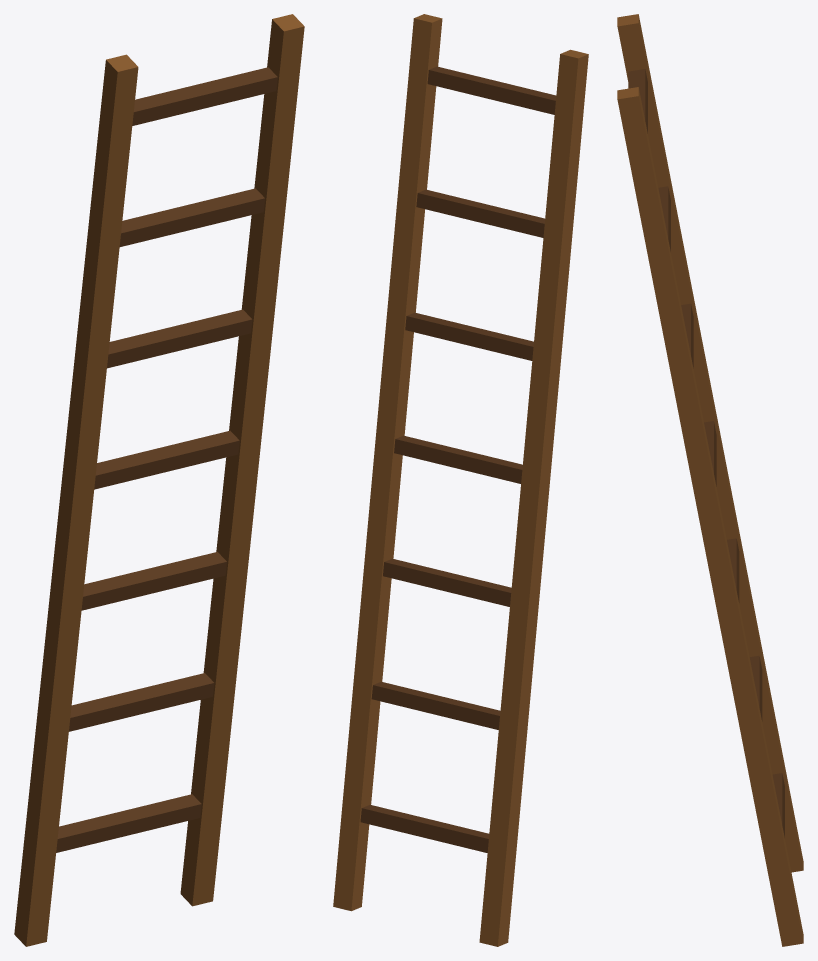
File: PR_Intro_Merdiven.fbx
3 renders of one model, left to right at view 1: azimuth 30°, elevation 25°; view 2: azimuth 150°, elevation 25°; view 3: azimuth 270°, elevation 25°, orthographic. The views are drawn at different scales.
Parts seen in each view (by area): view 1: PR_Intro_Merdiven; view 2: PR_Intro_Merdiven; view 3: PR_Intro_Merdiven.
Boxes of the visible parts, bbox=[...] form: PR_Intro_Merdiven: bbox=[14, 14, 304, 946]; PR_Intro_Merdiven: bbox=[333, 14, 588, 946]; PR_Intro_Merdiven: bbox=[617, 14, 803, 946].
Bounding box in the file's own units: 0.45 × 2.18 × 0.4313.
1 material, 1 textured.
